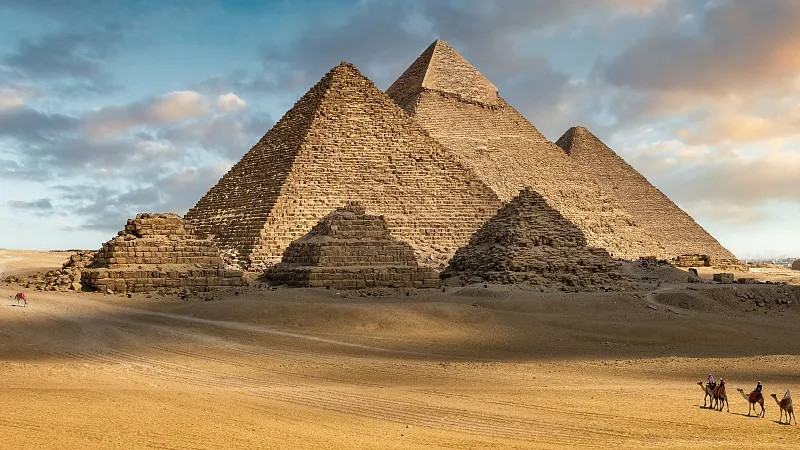Pyramid: (182, 63, 511, 272), (385, 41, 673, 267), (556, 127, 740, 266), (447, 189, 630, 288), (70, 213, 247, 300), (265, 204, 443, 286)
